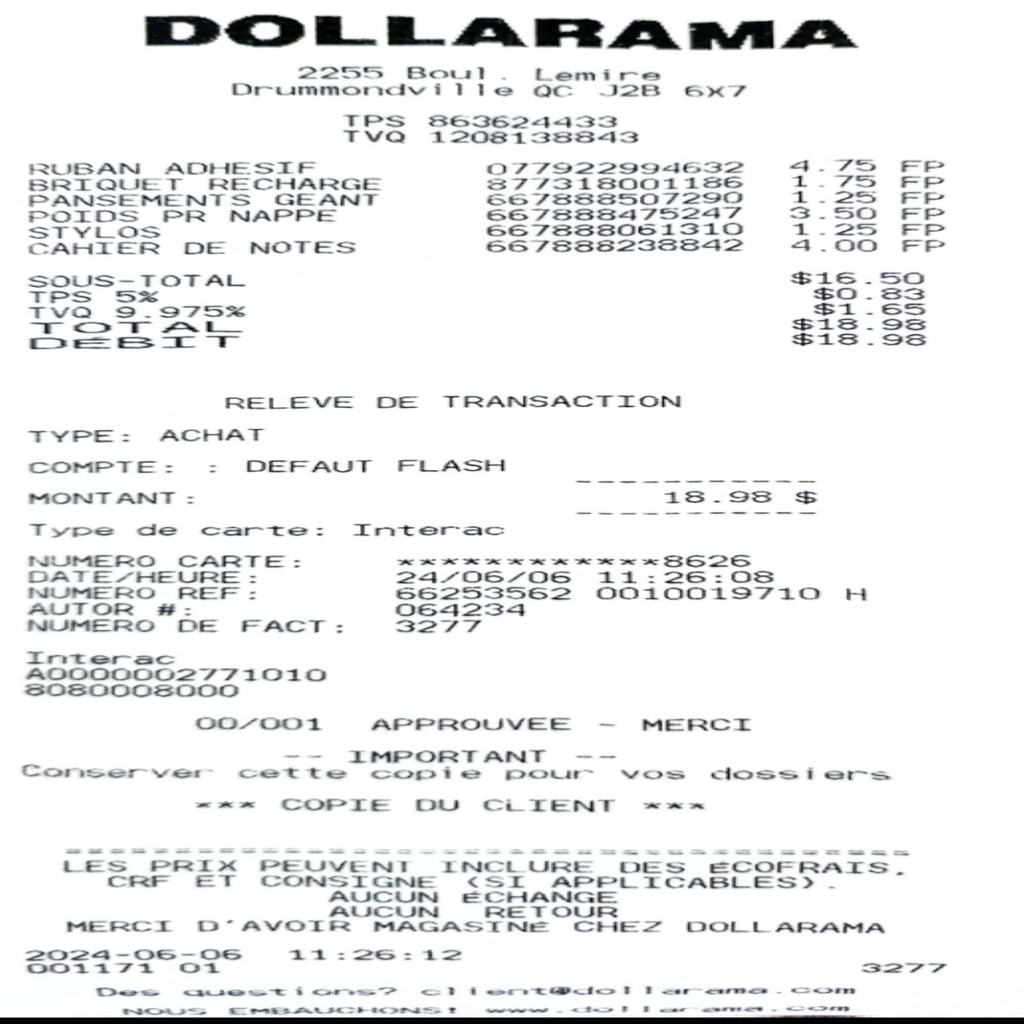recipt: (4, 2, 1018, 1016)
